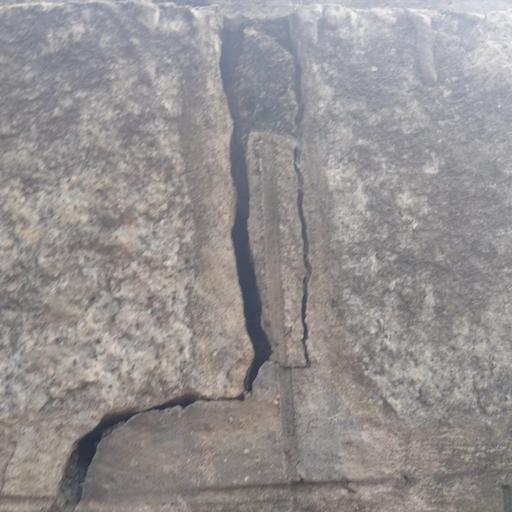major_crack: (48, 11, 334, 512)
